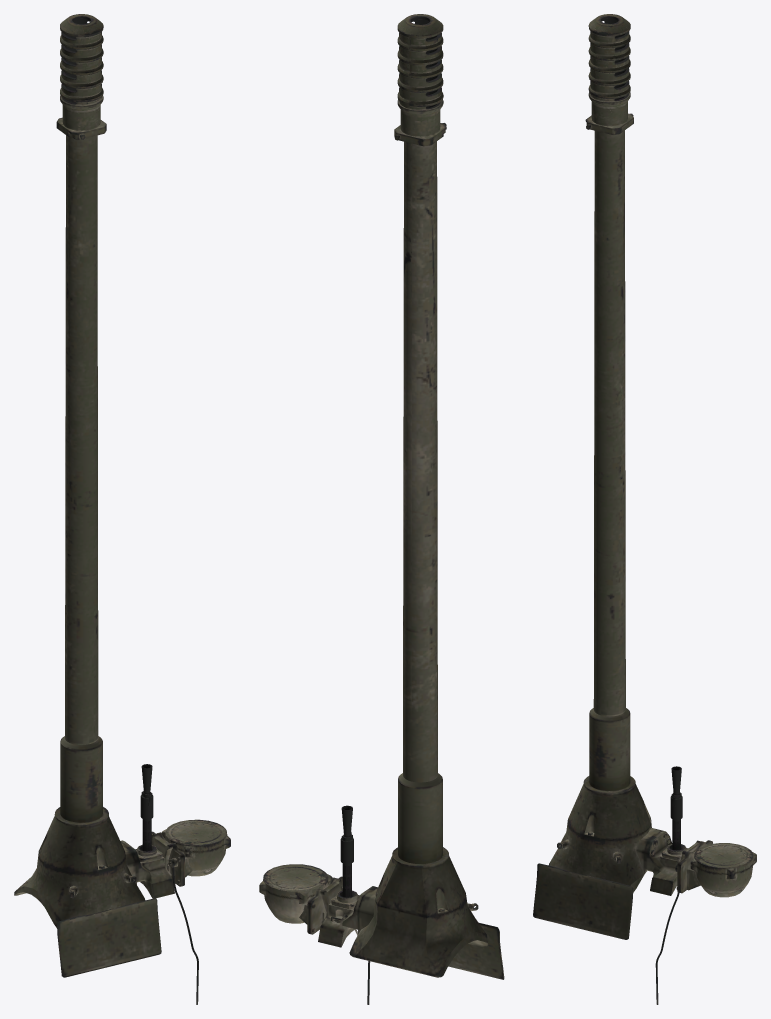
File: Gun_01.glb
3 renders of one model, left to right at view 1: azimuth 30°, elevation 25°; view 2: azimuth 150°, elevation 25°; view 3: azimuth 330°, elevation 25°, orthographic. The views are drawn at different scales.
Visible parts, largest first — view 1: set_0_group_0; view 2: set_0_group_0; view 3: set_0_group_0.
Boxes of the visible parts, x1,y1,x2,y2 form: set_0_group_0: (14, 14, 230, 1004); set_0_group_0: (259, 14, 504, 1004); set_0_group_0: (533, 14, 756, 1004).
Size of the model in its own units: 1.23 by 5.97 by 0.6581.
Materials: 1 (1 with a texture image).
